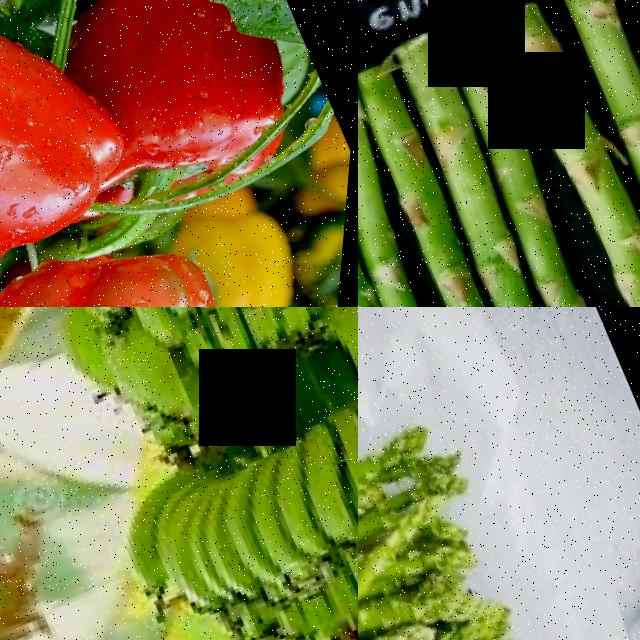asparagus: (358, 8, 640, 307), (358, 29, 632, 307), (396, 0, 640, 307), (443, 0, 640, 307), (358, 66, 594, 307), (358, 79, 561, 307), (512, 0, 640, 307), (358, 104, 510, 307), (358, 124, 454, 307), (358, 383, 443, 582), (358, 449, 455, 623)
banana: (126, 310, 358, 640), (31, 307, 358, 460)
bell pepper: (0, 0, 165, 307), (57, 0, 288, 202), (0, 201, 253, 307)
